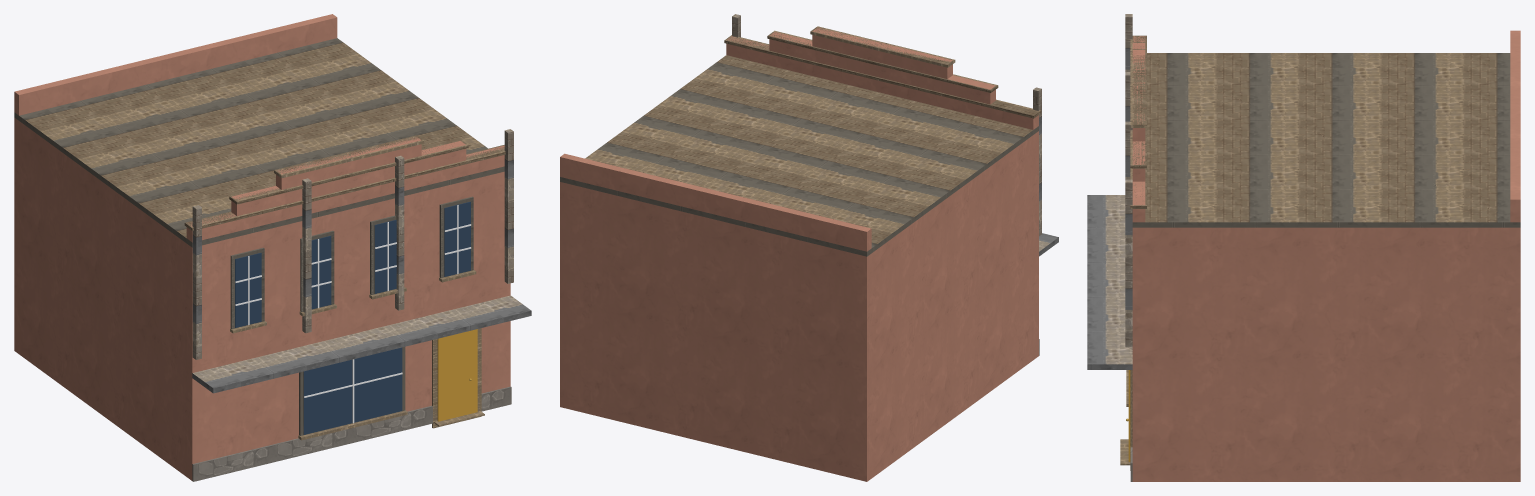
File: artdeco_w10_1.gltf
The picture shows the model from 3 angles, left to right: view 1: azimuth 30°, elevation 25°; view 2: azimuth 150°, elevation 25°; view 3: azimuth 270°, elevation 25°; orthographic projection. The views are drawn at different scales.
Parts seen in each view (by area): view 1: artdeco_w10_1; view 2: artdeco_w10_1; view 3: artdeco_w10_1.
Part boxes in pixels (box(x1,y1,x2,y2)): artdeco_w10_1: box(14, 14, 531, 481); artdeco_w10_1: box(560, 14, 1058, 481); artdeco_w10_1: box(1087, 14, 1520, 481).
Size of what is drawn, in the model's own units: 9.78 by 8.44 by 10.5.
Materials: 6 (3 with a texture image).
